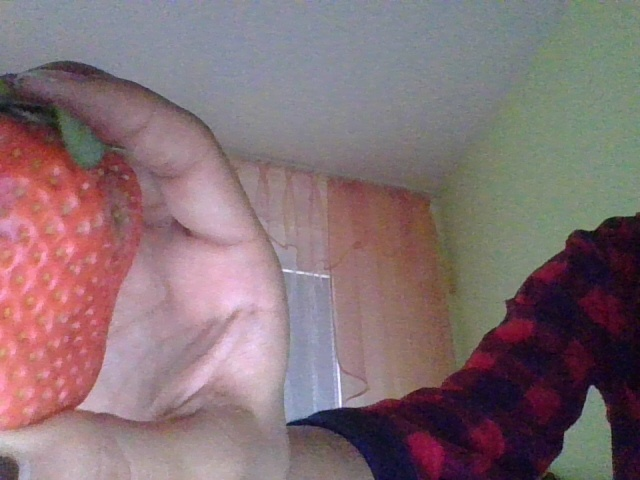ripe: (4, 110, 144, 432)
